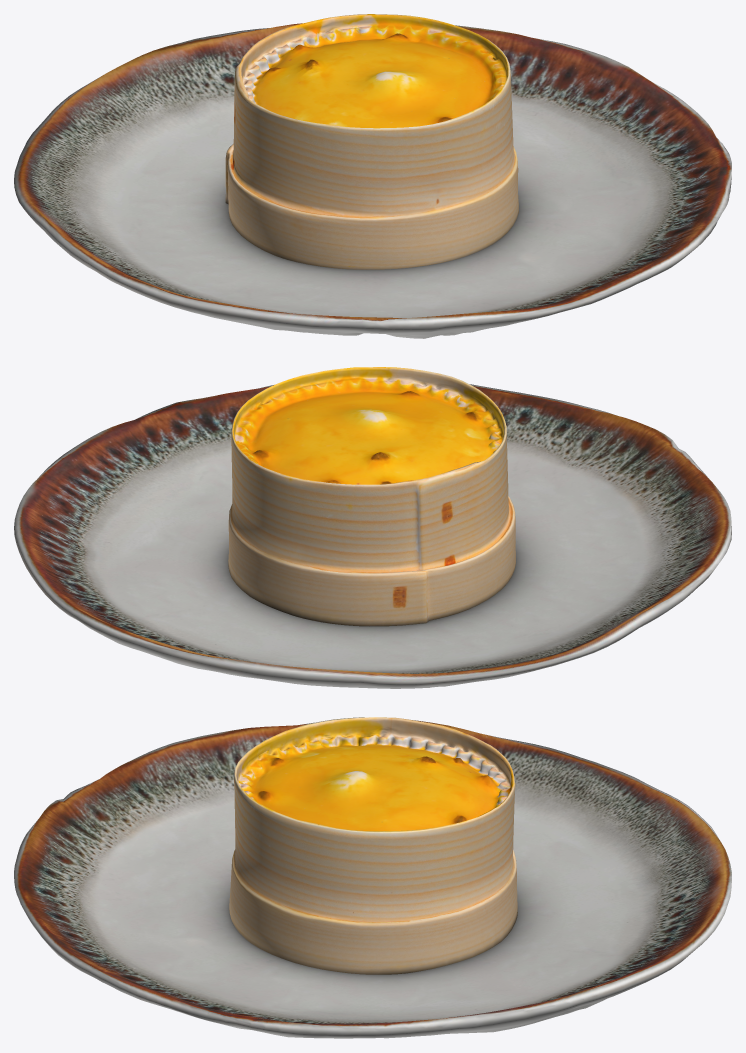
File: 02_Cheesecakemaracuya.glb
3 views of the same model, one above another, from view 1: azimuth 30°, elevation 25°; view 2: azimuth 150°, elevation 25°; view 3: azimuth 270°, elevation 25° (orthographic).
Visible parts, largest first — view 1: Plate, Principal; view 2: Plate, Principal; view 3: Plate, Principal.
Boxes of the visible parts, x1=… form: Plate: x1=14, y1=23, x2=731, y2=338; Principal: x1=225, y1=14, x2=518, y2=269; Plate: x1=14, y1=384, x2=731, y2=688; Principal: x1=228, y1=367, x2=515, y2=626; Plate: x1=14, y1=720, x2=731, y2=1038; Principal: x1=229, y1=717, x2=517, y2=974.
Bounding box in the file's own units: 0.2346 × 0.058 × 0.2367.
2 materials, 2 textured.
